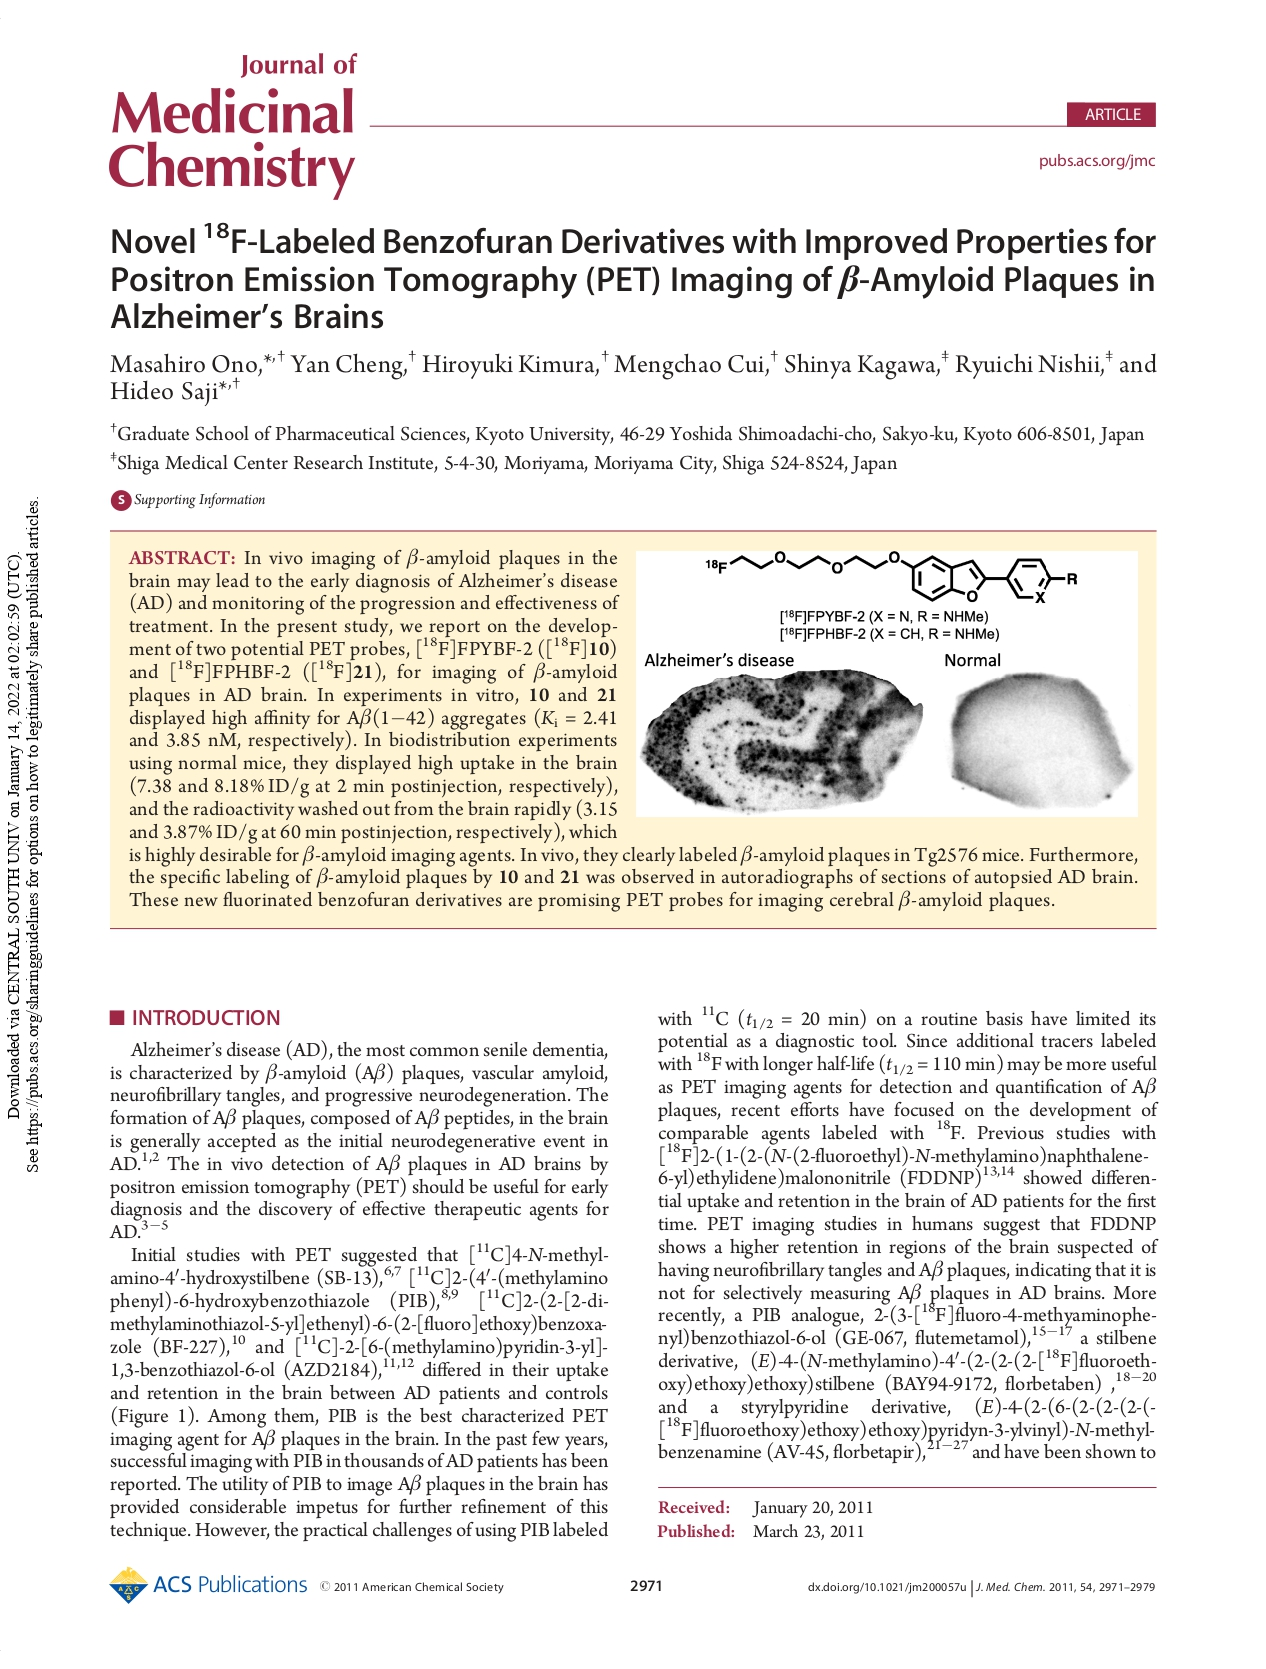exist_molecular: (702, 551, 1078, 604)
